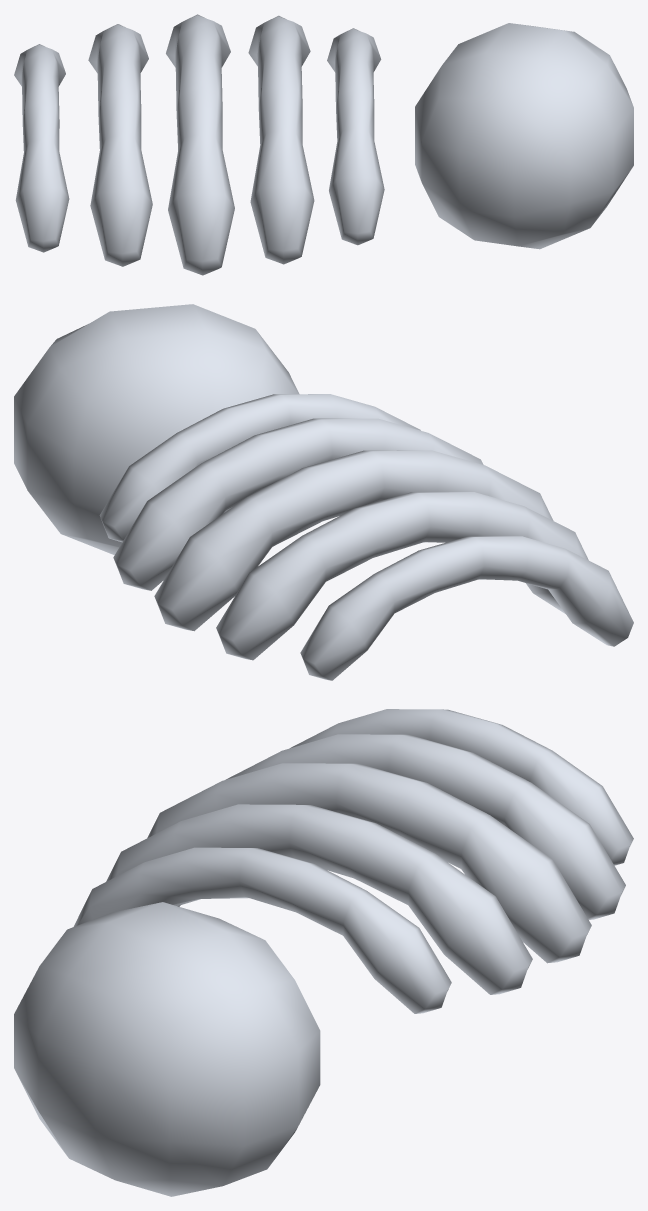
The model's file is bones.glb.
3 renders of one model, top to bottom at view 1: azimuth 30°, elevation 25°; view 2: azimuth 150°, elevation 25°; view 3: azimuth 270°, elevation 25°, orthographic. The views are drawn at different scales.
Visible parts, largest first — view 1: Bone_Ribs, Bone_Head; view 2: Bone_Ribs, Bone_Head; view 3: Bone_Ribs, Bone_Head.
Boxes of the visible parts, left/top/right/bottom form: Bone_Ribs: left=14, top=14, right=384, bottom=275; Bone_Head: left=415, top=23, right=633, bottom=249; Bone_Ribs: left=99, top=394, right=633, bottom=680; Bone_Head: left=14, top=304, right=299, bottom=554; Bone_Ribs: left=73, top=709, right=633, bottom=1013; Bone_Head: left=14, top=902, right=320, bottom=1196.
Size of the model in its own units: 3.72 by 1.23 by 2.79.
1 material, 1 textured.
